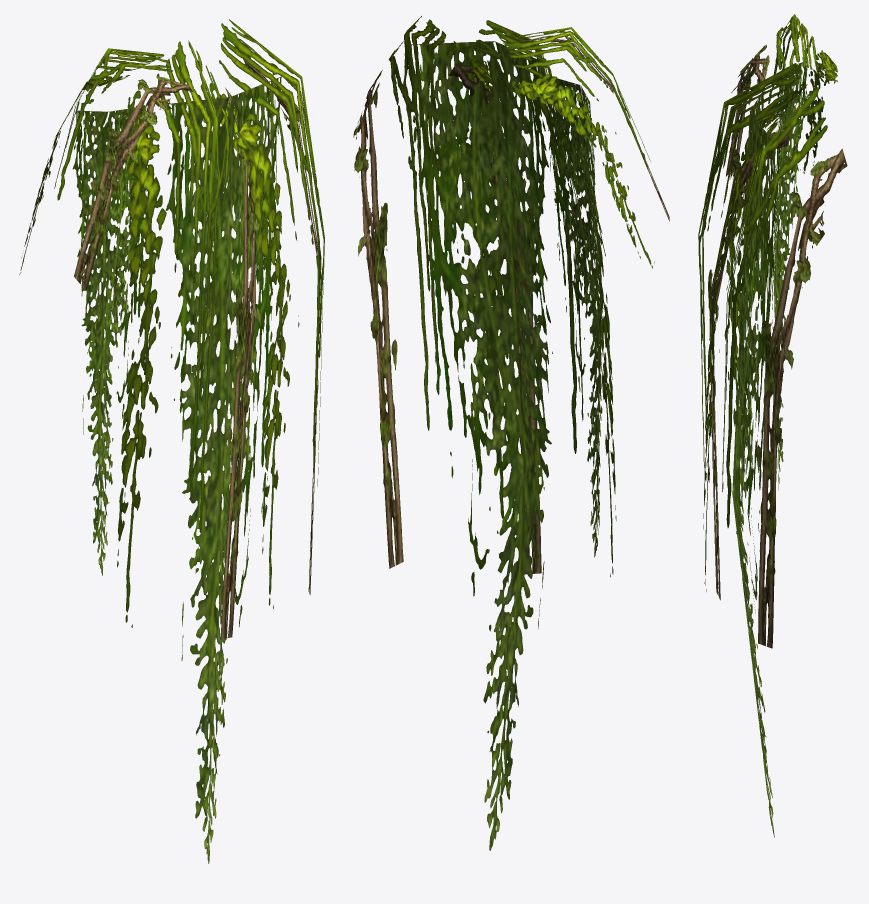
The model's file is S_Plant_Green022.FBX.
3 views of the same model, side by side, from view 1: azimuth 30°, elevation 25°; view 2: azimuth 150°, elevation 25°; view 3: azimuth 270°, elevation 25° (orthographic). The views are drawn at different scales.
Visible parts, largest first — view 1: S_Plant_Green022; view 2: S_Plant_Green022; view 3: S_Plant_Green022.
Part boxes in pixels (x1=…): S_Plant_Green022: x1=19, y1=19, x2=324, y2=863; S_Plant_Green022: x1=353, y1=16, x2=669, y2=850; S_Plant_Green022: x1=698, y1=14, x2=847, y2=837.
Bounding box in the file's own units: 144 × 70.57 × 401.
